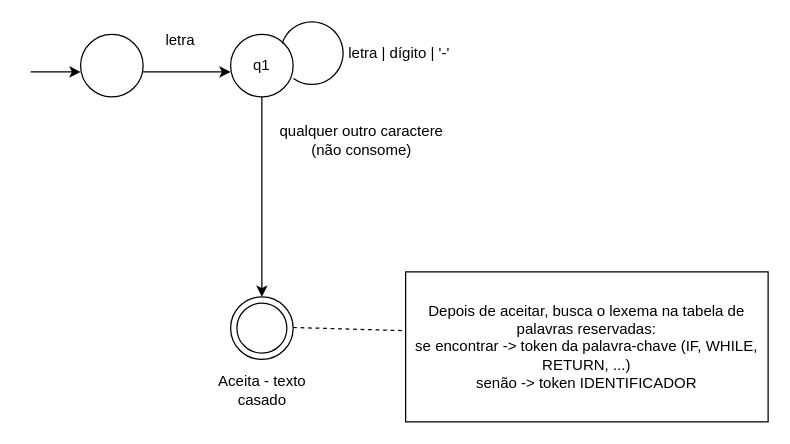
Image size: 790x444. Some labels were removed from this diagram. Each missing label, with the centre of its shape:
q0: (x=111, y=65)
q2: (x=261, y=327)
